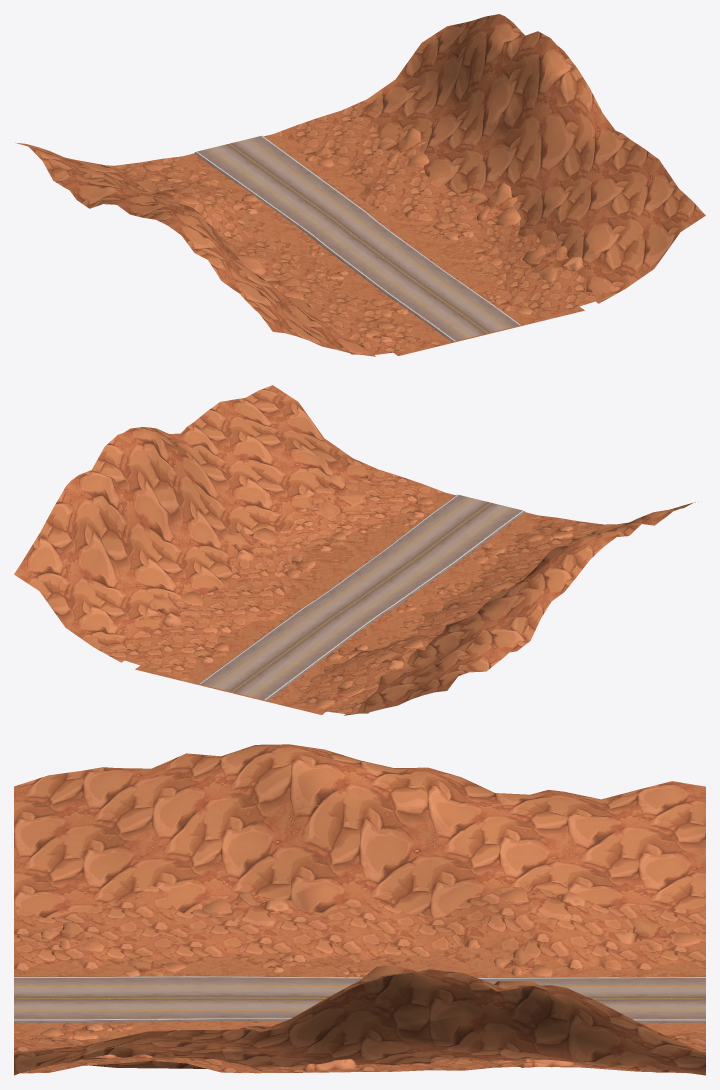
File: Desert_Straight.FBX
3 renders of one model, top to bottom at view 1: azimuth 30°, elevation 25°; view 2: azimuth 150°, elevation 25°; view 3: azimuth 270°, elevation 25°, orthographic. The views are drawn at different scales.
Visible parts, largest first — view 1: Desert_Straight_L, Desert_Straight_R, Desert_Straight_Road; view 2: Desert_Straight_L, Desert_Straight_R, Desert_Straight_Road; view 3: Desert_Straight_R, Desert_Straight_L, Desert_Straight_Road.
Boxes of the visible parts, x1=… form: Desert_Straight_L: x1=264, y1=14, x2=705, y2=334; Desert_Straight_R: x1=15, y1=142, x2=487, y2=356; Desert_Straight_Road: x1=194, y1=135, x2=520, y2=342; Desert_Straight_L: x1=14, y1=385, x2=455, y2=692; Desert_Straight_R: x1=232, y1=502, x2=698, y2=715; Desert_Straight_Road: x1=199, y1=494, x2=525, y2=701; Desert_Straight_R: x1=14, y1=744, x2=705, y2=977; Desert_Straight_L: x1=14, y1=965, x2=705, y2=1075; Desert_Straight_Road: x1=14, y1=976, x2=705, y2=1022.
Size of the model in its own units: 49.07 by 14.11 by 50.
Materials: 2 (2 with a texture image).
